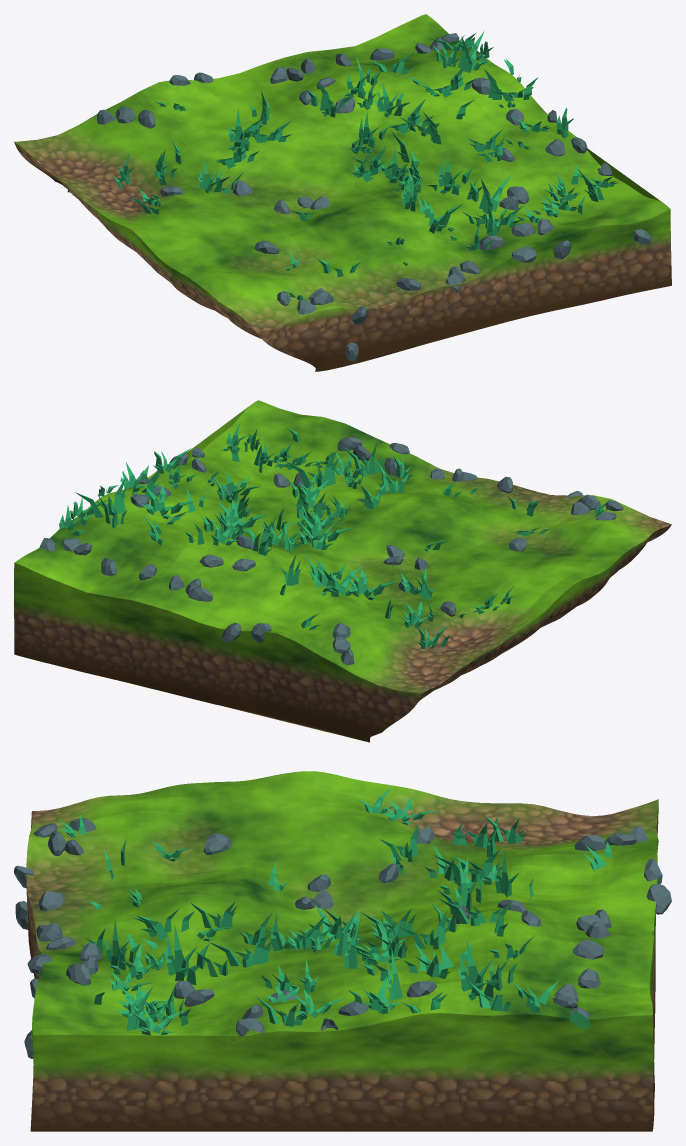
Rendered from re_upper_left.fbx.
The picture shows the model from 3 angles, top to bottom: view 1: azimuth 30°, elevation 25°; view 2: azimuth 150°, elevation 25°; view 3: azimuth 270°, elevation 25°; orthographic projection. The views are drawn at different scales.
Parts seen in each view (by area): view 1: left_edge; view 2: left_edge; view 3: left_edge.
Part boxes in pixels (x1,y1,x2,y2): left_edge: (14,14,671,371); left_edge: (14,400,671,742); left_edge: (14,771,671,1131).
Bounding box in the file's own units: 607 × 181 × 638.
